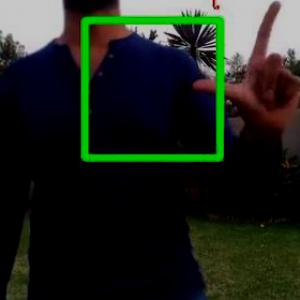land_hand: (192, 0, 299, 138)
